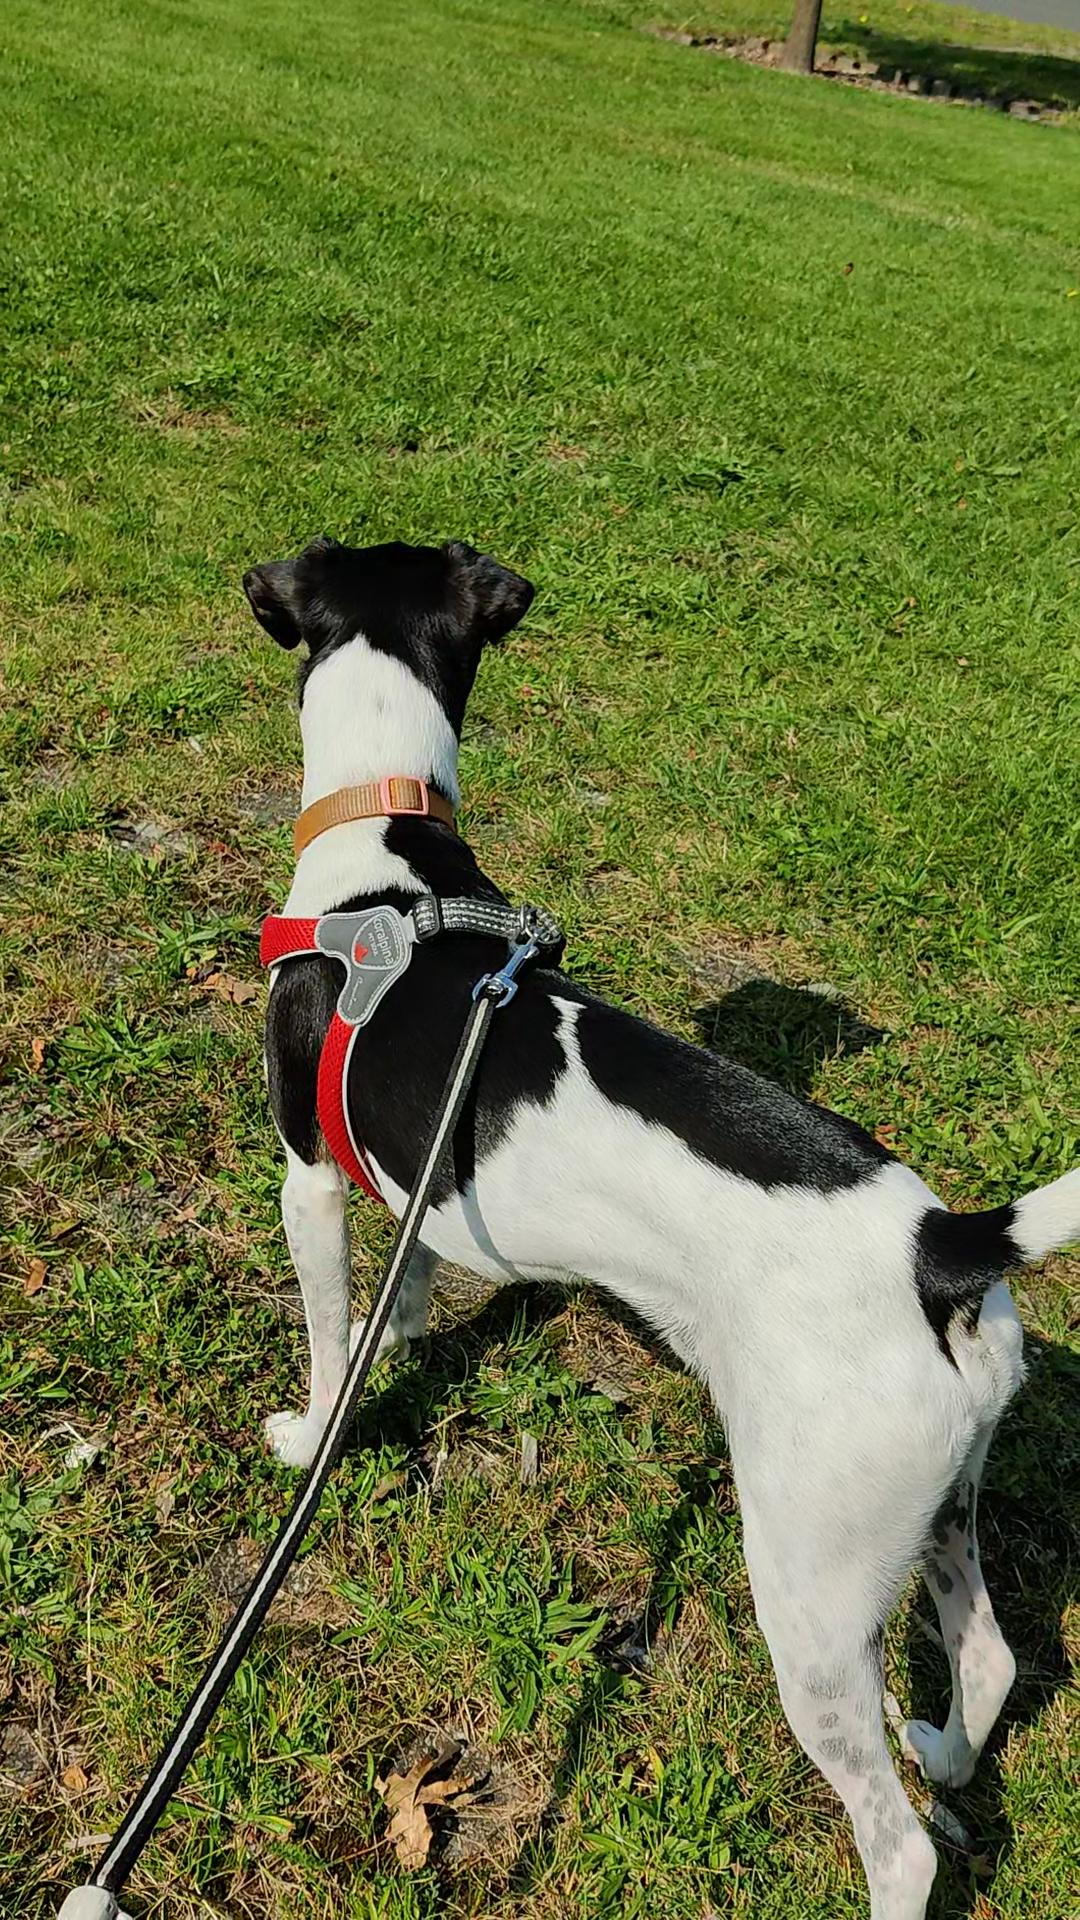Dog: (231, 527, 1079, 1919)
